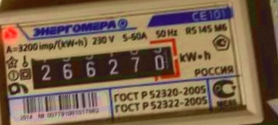0: (153, 50, 166, 68)
2: (38, 60, 53, 79), (107, 54, 120, 73)
6: (61, 59, 75, 78), (84, 57, 98, 76)
7: (130, 52, 143, 71)
screen: (20, 31, 187, 97)
